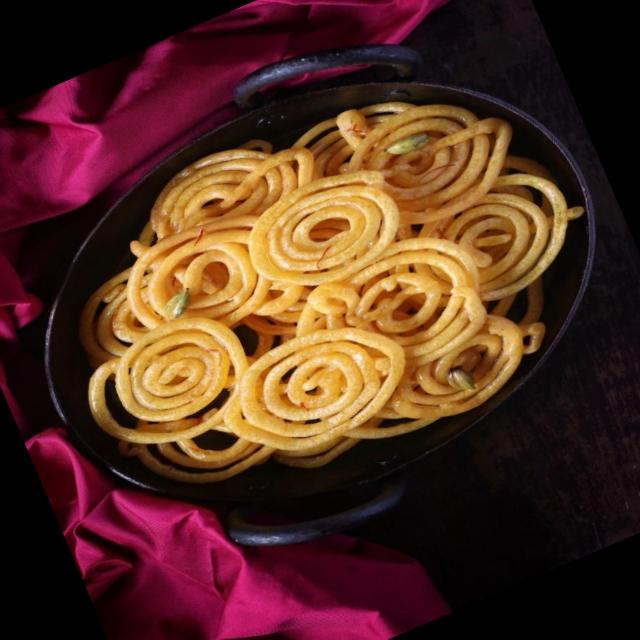jalebi: (29, 32, 640, 543)
